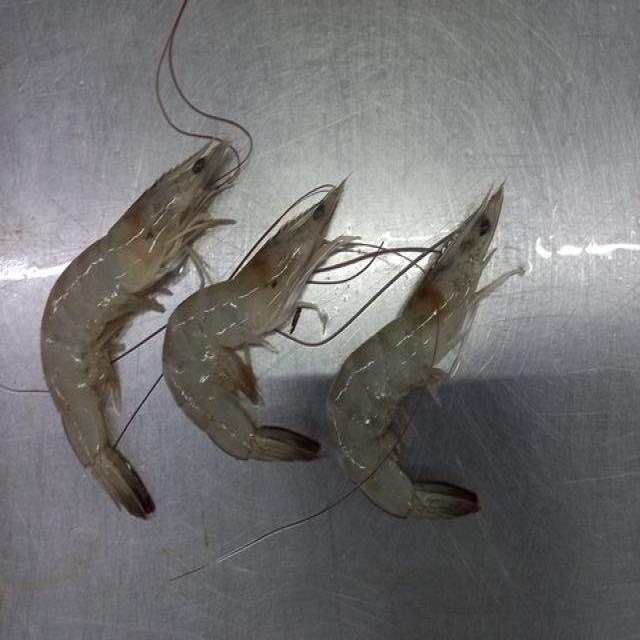shrimp: (44, 140, 235, 518), (328, 185, 524, 518), (164, 180, 348, 461)
